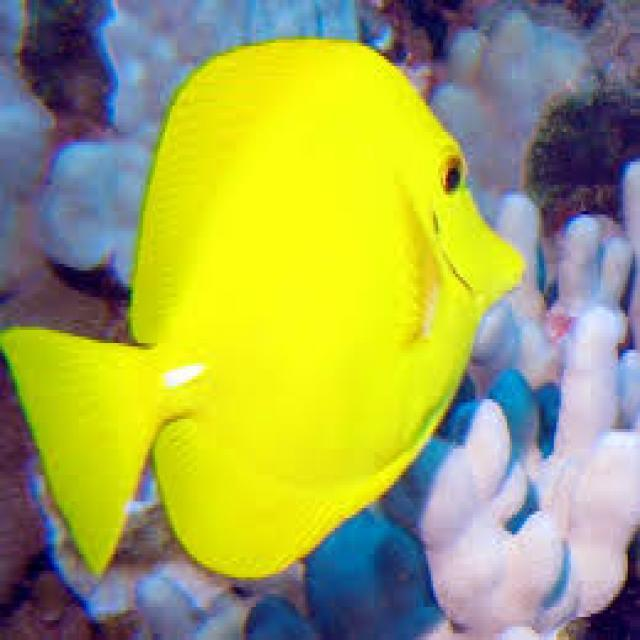YellowTang: (0, 33, 534, 596)
